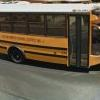Bus: (1, 3, 98, 72)
